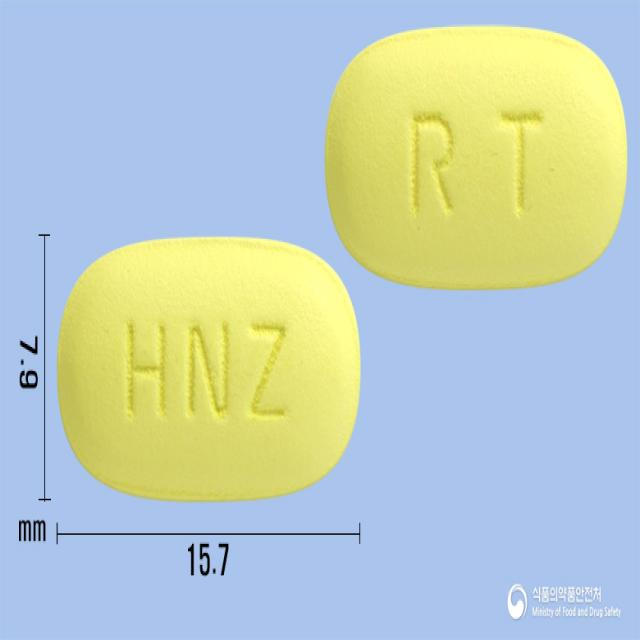Claniz - 500mg: (324, 15, 634, 293), (53, 232, 365, 506)
